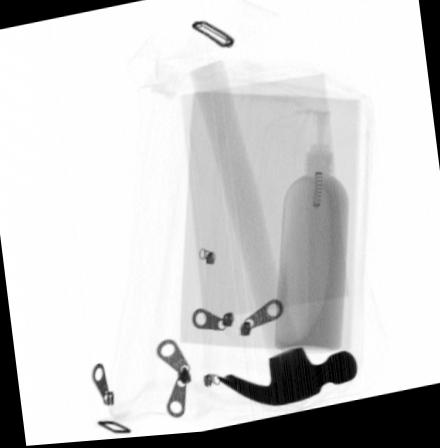Hammer: (186, 65, 358, 411)
